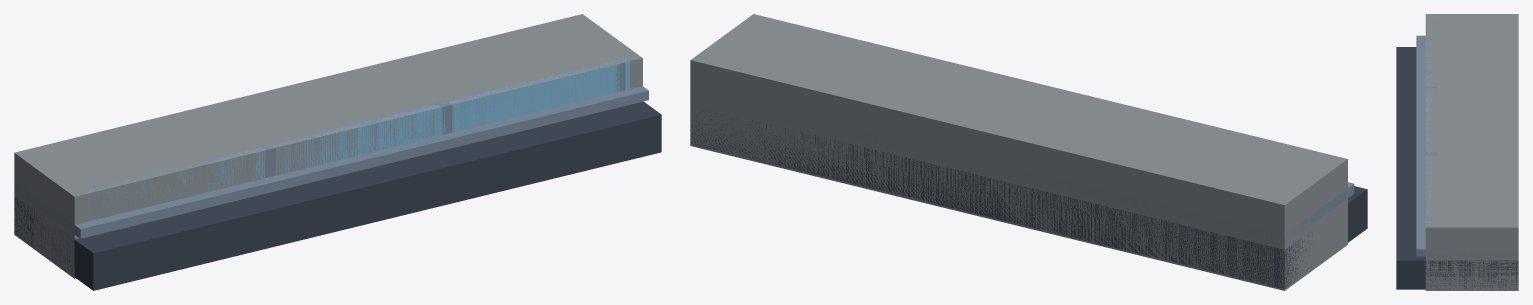
The model's file is cittaArdesiaTetto.glb.
The picture shows the model from 3 angles, left to right: view 1: azimuth 30°, elevation 25°; view 2: azimuth 150°, elevation 25°; view 3: azimuth 270°, elevation 25°; orthographic projection. The views are drawn at different scales.
Visible parts, largest first — view 1: cittaArdesiaTetto_cittaArdesia, cittaArdesiaTetto_steelDark, cittaArdesiaTetto_glass, cittaArdesiaTetto_steel; view 2: cittaArdesiaTetto_cittaArdesia, cittaArdesiaTetto_steelDark, cittaArdesiaTetto_steel; view 3: cittaArdesiaTetto_cittaArdesia, cittaArdesiaTetto_steelDark, cittaArdesiaTetto_steel, cittaArdesiaTetto_glass.
Part boxes in pixels (<box>): cittaArdesiaTetto_cittaArdesia: <box>14,14,642,278</box>; cittaArdesiaTetto_steelDark: <box>14,101,661,290</box>; cittaArdesiaTetto_glass: <box>87,58,629,215</box>; cittaArdesiaTetto_steel: <box>14,58,648,238</box>; cittaArdesiaTetto_cittaArdesia: <box>690,14,1347,290</box>; cittaArdesiaTetto_steelDark: <box>690,108,1367,288</box>; cittaArdesiaTetto_steel: <box>690,21,1354,244</box>; cittaArdesiaTetto_cittaArdesia: <box>1425,14,1518,290</box>; cittaArdesiaTetto_steelDark: <box>1396,47,1518,289</box>; cittaArdesiaTetto_steel: <box>1416,21,1518,256</box>; cittaArdesiaTetto_glass: <box>1425,19,1432,222</box>.
Size of the model in its own units: 8.7 by 1.2 by 2.1.
